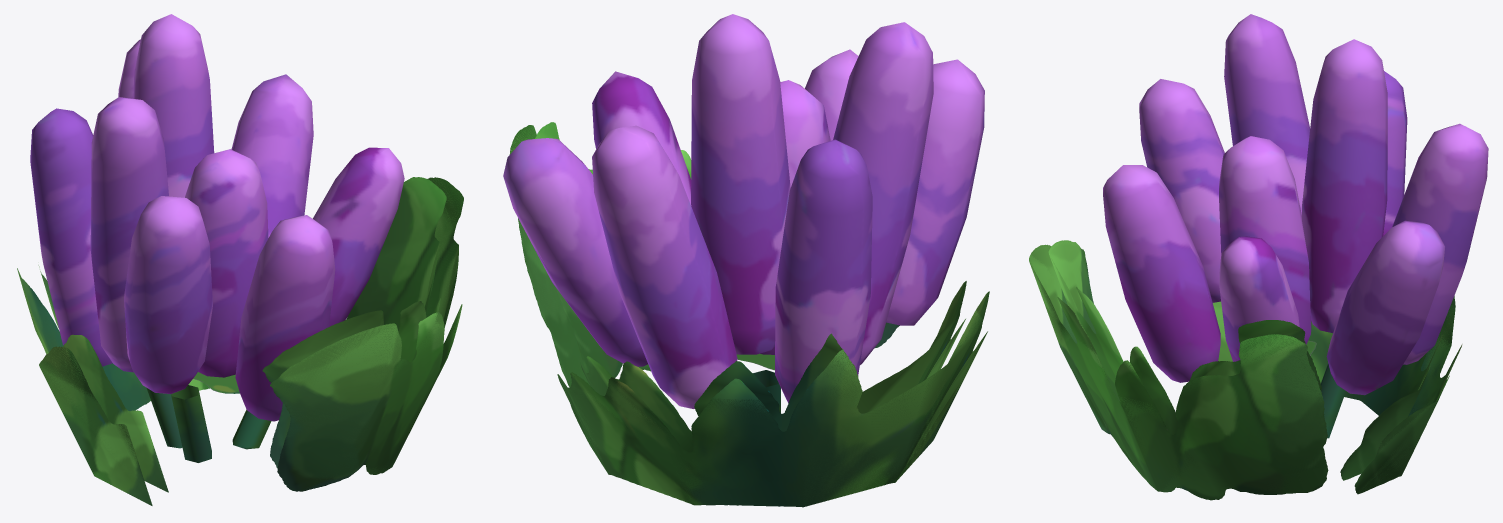
The picture shows the model from 3 angles, left to right: view 1: azimuth 30°, elevation 25°; view 2: azimuth 150°, elevation 25°; view 3: azimuth 270°, elevation 25°; orthographic projection. The views are drawn at different scales.
Parts seen in each view (by area): view 1: SM_F3c; view 2: SM_F3c; view 3: SM_F3c.
Boxes of the visible parts, bbox=[...] form: SM_F3c: bbox=[17, 14, 463, 505]; SM_F3c: bbox=[503, 14, 989, 507]; SM_F3c: bbox=[1029, 14, 1488, 500].
Bounding box in the file's own units: 151 × 147 × 153.
1 material, 1 textured.
